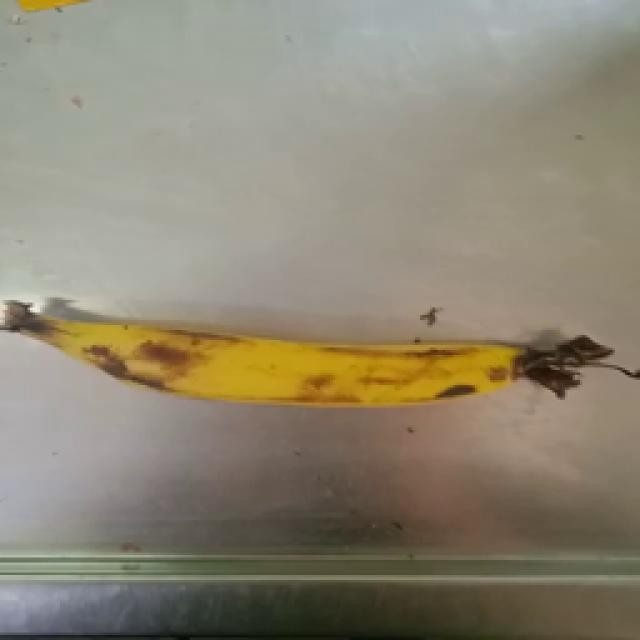Rotten_Banana: (0, 274, 640, 431)
